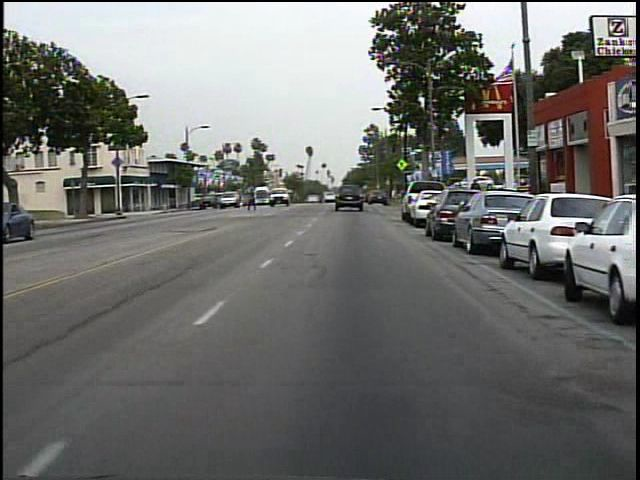person: (465, 175, 485, 217), (246, 182, 264, 213)
